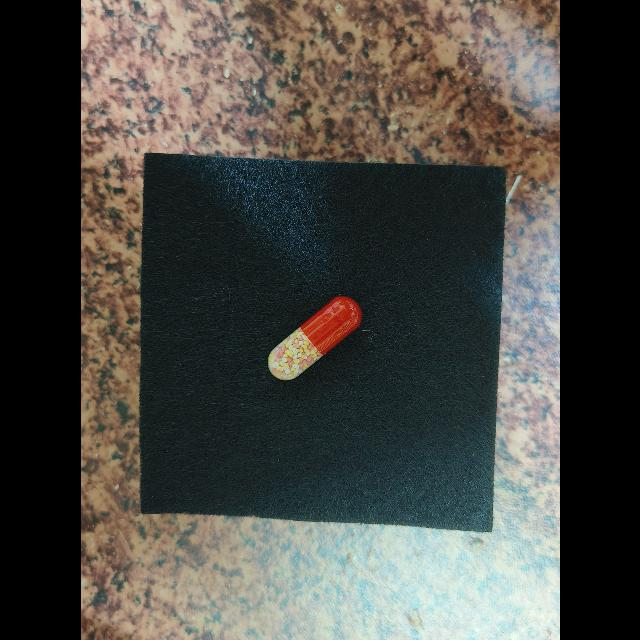Intact Capsule: (267, 296, 361, 380)
